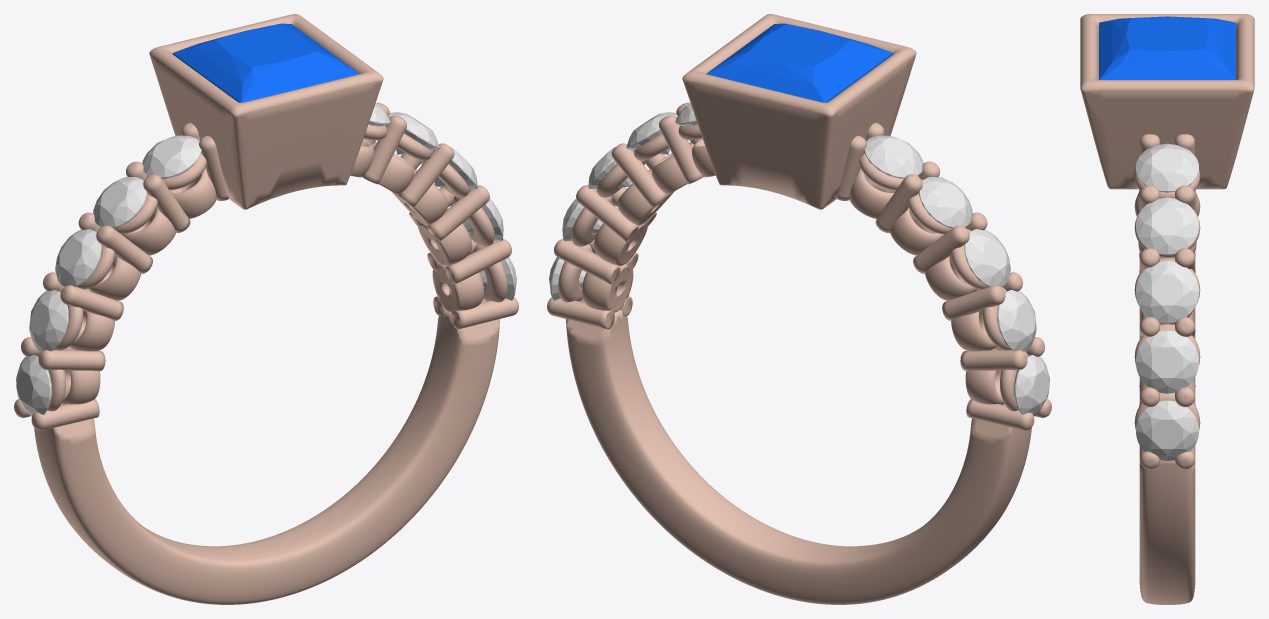
File: bluesapphire-princess-rosegold-bezelset-straightband-11stone.glb
3 renders of one model, left to right at view 1: azimuth 30°, elevation 25°; view 2: azimuth 150°, elevation 25°; view 3: azimuth 270°, elevation 25°, orthographic.
Parts seen in each view (by area): view 1: metal, stone, side.002, side.003, side.001, side.004, side, side.006; view 2: metal, stone, side.002, side.003, side.001, side.004, side, side.006; view 3: metal, stone, side.008, side.007, side.009, side.006, side.005.
Boxes of the visible parts, x1,y1,x2,y2 form: metal: (14, 14, 518, 604); stone: (172, 23, 359, 102); side.002: (55, 229, 101, 286); side.003: (93, 177, 146, 228); side.001: (29, 290, 68, 351); side.004: (142, 135, 201, 178); side: (16, 355, 52, 415); side.006: (388, 112, 439, 154); metal: (547, 14, 1051, 604); stone: (706, 23, 893, 102); side.002: (964, 229, 1010, 286); side.003: (919, 177, 972, 228); side.001: (997, 290, 1036, 351); side.004: (864, 135, 923, 178); side: (1013, 355, 1049, 415); side.006: (626, 112, 677, 154); metal: (1080, 14, 1254, 604); stone: (1099, 16, 1235, 79); side.008: (1136, 330, 1198, 393); side.007: (1136, 261, 1198, 323); side.009: (1136, 400, 1198, 460); side.006: (1136, 197, 1198, 254); side.005: (1136, 143, 1198, 192).
Size of the model in its own units: 22.2 by 23.86 by 6.89.
